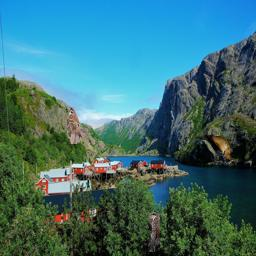Cuckoo: (148, 212, 160, 252)
Sparrow: (67, 106, 88, 144)
Swallow: (194, 135, 234, 165)
